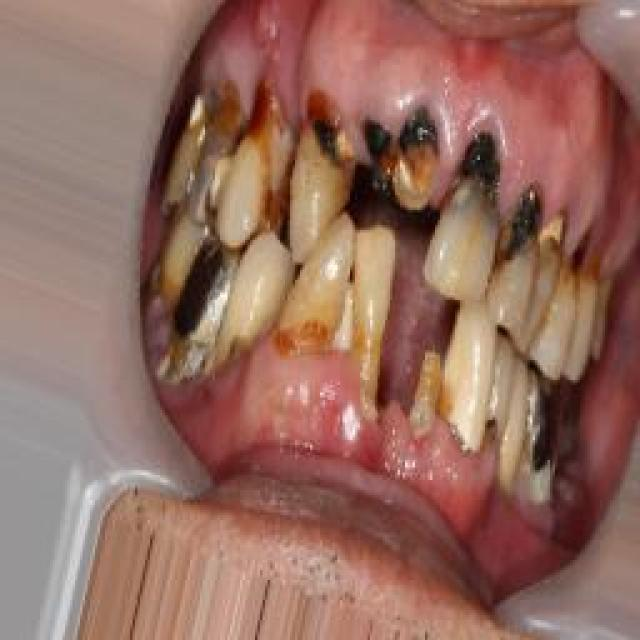decay: (170, 247, 238, 365), (188, 95, 240, 217), (247, 90, 285, 220), (300, 118, 352, 203), (393, 105, 433, 205), (455, 138, 507, 213), (530, 380, 560, 488), (405, 365, 450, 437), (495, 192, 535, 270), (363, 125, 398, 195), (268, 323, 350, 345), (533, 220, 565, 262), (567, 243, 585, 283)
